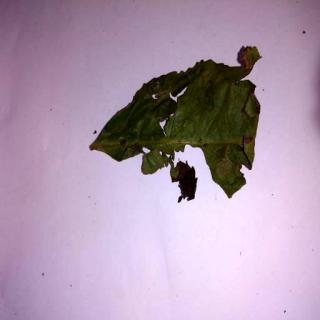Anthracnose: (91, 46, 264, 206)
